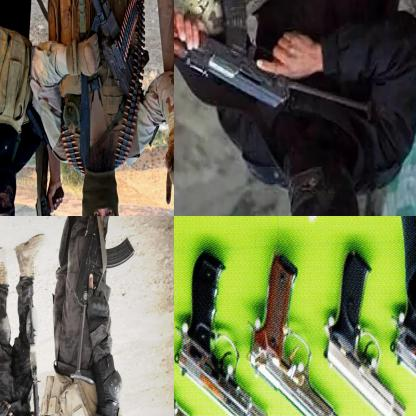pistol: (247, 252, 340, 415), (176, 249, 266, 415), (323, 249, 408, 415), (388, 290, 415, 415), (174, 267, 191, 415)
rifle: (174, 0, 376, 125), (83, 0, 154, 113), (70, 216, 135, 307), (24, 142, 85, 215)
